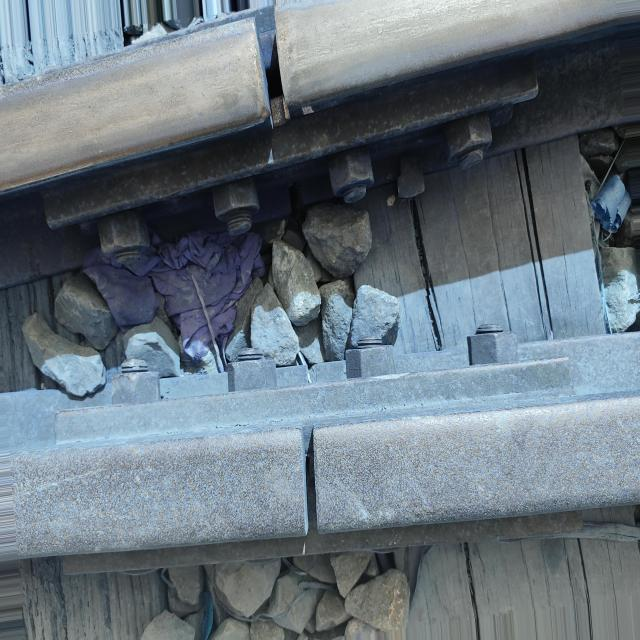crack: (282, 426, 343, 542)
